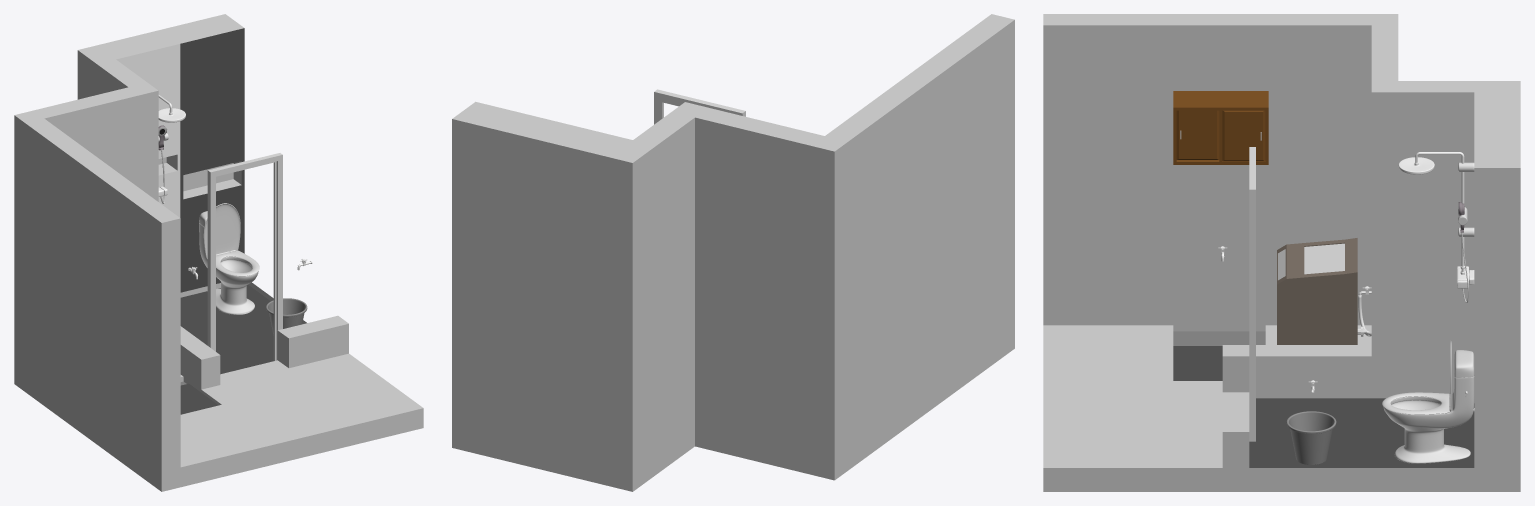
Rendered from bathroom 3d view.fbx.
3 views of the same model, side by side, from view 1: azimuth 30°, elevation 25°; view 2: azimuth 150°, elevation 25°; view 3: azimuth 270°, elevation 25° (orthographic). The views are drawn at different scales.
Parts seen in each view (by area): view 1: ruagnan, DoorFrame, wc duduk, wc duduk.002, Circle.001, wc duduk.001, Circle.004; view 2: ruagnan, DoorFrame; view 3: ruagnan, Circle, Plane, wc duduk, DoorFrame, Circle.001, Circle.004, wc duduk.001.
Part boxes in pixels (x1,y1,x2,y2): ruagnan: [14, 14, 423, 491]; DoorFrame: [207, 153, 282, 360]; wc duduk: [199, 211, 258, 314]; wc duduk.002: [203, 203, 240, 257]; Circle.001: [266, 298, 307, 335]; wc duduk.001: [207, 250, 259, 276]; Circle.004: [158, 95, 185, 196]; ruagnan: [452, 14, 1014, 491]; DoorFrame: [654, 89, 745, 124]; ruagnan: [1043, 14, 1520, 491]; Circle: [1277, 238, 1357, 344]; Plane: [1173, 91, 1268, 164]; wc duduk: [1383, 350, 1474, 463]; DoorFrame: [1249, 147, 1255, 441]; Circle.001: [1286, 411, 1336, 464]; Circle.004: [1398, 152, 1474, 288]; wc duduk.001: [1382, 392, 1449, 414].
Size of the model in its own units: 275 by 270 by 361.
